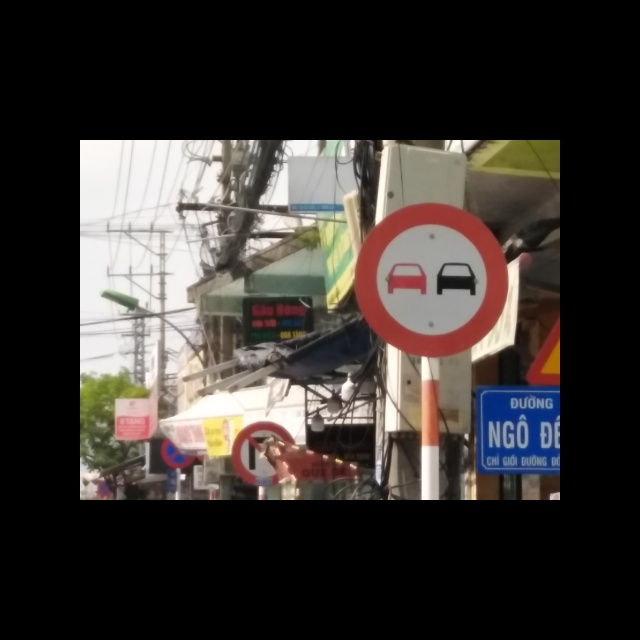Cấm vượt: (355, 203, 509, 356)
